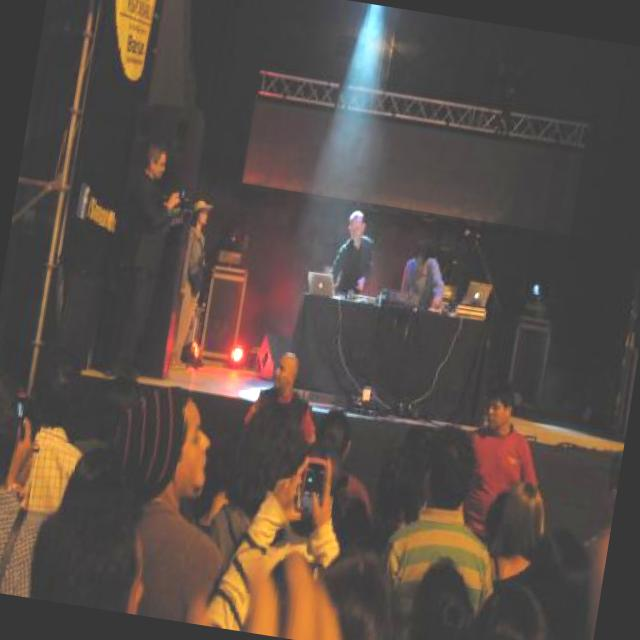Person: (80, 368, 248, 610), (372, 406, 514, 619), (102, 137, 194, 391), (21, 474, 162, 615), (449, 380, 554, 546), (0, 373, 68, 597), (286, 398, 392, 529), (464, 483, 546, 619), (233, 344, 327, 451), (162, 204, 218, 368), (393, 229, 458, 320), (328, 205, 384, 310)
